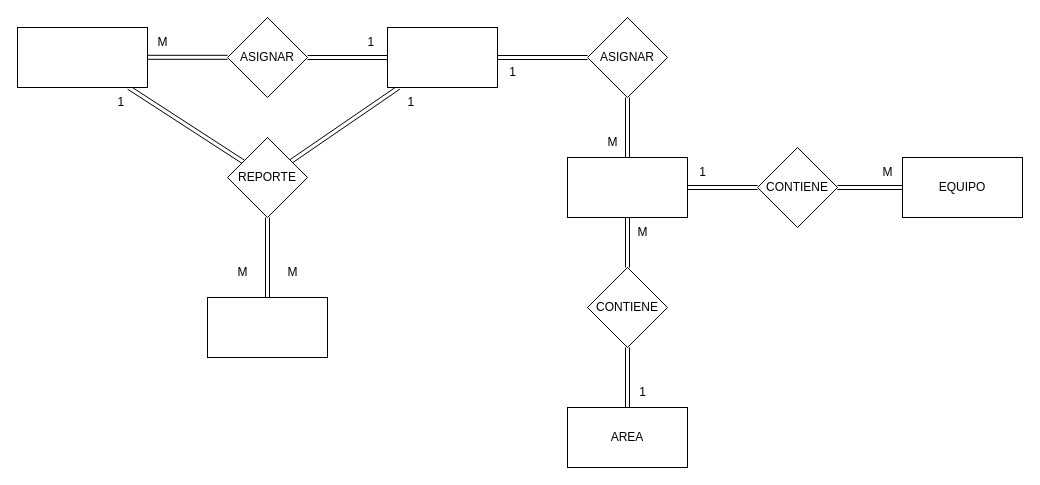
Image size: 1040x485. Some labels were removed from this diagram. The shapes that lost their labels are listed below. From the top down, each one's box as (x1, y1, x2, y2) in pixels, then its label:
(16, 26, 148, 88): CAMPER
(386, 26, 498, 88): TRAINER
(566, 156, 688, 218): SALON
(206, 296, 328, 358): INCIDENCIA
